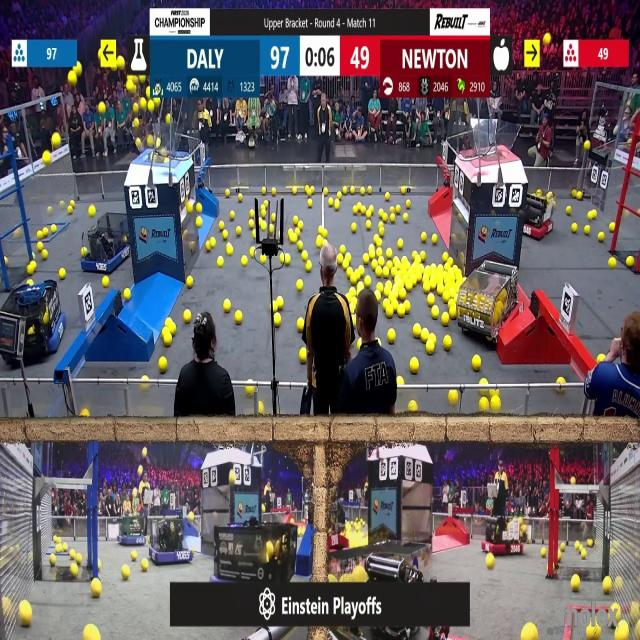ball_airborne: (53, 133, 62, 149), (68, 72, 77, 85), (230, 469, 237, 484), (43, 150, 51, 163), (127, 80, 135, 92), (116, 58, 123, 70), (543, 33, 550, 45), (100, 102, 106, 114), (148, 100, 154, 112), (165, 114, 172, 124), (148, 136, 153, 148), (586, 141, 592, 151), (132, 488, 138, 498), (136, 101, 141, 113), (133, 104, 140, 112), (134, 118, 140, 127), (140, 99, 146, 108), (155, 138, 160, 148), (111, 62, 116, 72), (140, 76, 146, 83), (146, 88, 150, 98), (136, 138, 140, 147), (139, 465, 143, 474), (140, 483, 145, 490)
ball_ground: (20, 604, 32, 628), (92, 580, 102, 598), (570, 577, 580, 593), (449, 390, 459, 406), (480, 396, 490, 411), (411, 357, 420, 373), (471, 355, 480, 370), (160, 356, 168, 372), (603, 578, 611, 594), (486, 554, 494, 569), (426, 340, 435, 353), (274, 313, 282, 327), (296, 318, 304, 332), (299, 348, 306, 364), (236, 311, 244, 325), (414, 324, 422, 338), (388, 331, 396, 345), (70, 564, 78, 577), (183, 310, 190, 324), (444, 312, 451, 326), (121, 565, 128, 579), (344, 253, 352, 265), (223, 300, 230, 313), (410, 400, 418, 411), (627, 256, 635, 267), (186, 276, 193, 288), (431, 308, 438, 320), (608, 256, 615, 268), (257, 403, 263, 417), (277, 296, 284, 308), (376, 248, 384, 258), (376, 268, 384, 278), (384, 287, 392, 297), (368, 245, 374, 258), (365, 206, 372, 217), (316, 237, 323, 248), (142, 560, 148, 572), (306, 262, 312, 273), (296, 280, 302, 291), (226, 244, 232, 255), (217, 256, 223, 267), (90, 206, 96, 217), (49, 555, 55, 566), (428, 293, 434, 304), (389, 214, 396, 223), (396, 377, 403, 386), (60, 270, 66, 280), (598, 233, 604, 243), (103, 277, 109, 287), (338, 254, 344, 264), (585, 224, 591, 234), (363, 253, 369, 263), (383, 268, 389, 278), (431, 235, 437, 245), (387, 308, 393, 318), (81, 410, 88, 418), (377, 282, 384, 290), (292, 186, 297, 197), (386, 248, 392, 257), (296, 241, 302, 250), (571, 223, 577, 232), (242, 256, 248, 265), (132, 552, 138, 561), (336, 202, 342, 211), (364, 219, 370, 228), (270, 213, 276, 222), (397, 240, 403, 249), (609, 222, 614, 232), (444, 252, 449, 262), (380, 223, 385, 233), (237, 225, 242, 235), (558, 378, 565, 385), (598, 354, 604, 362), (566, 207, 572, 215), (482, 378, 488, 386), (384, 280, 392, 286), (249, 248, 254, 257), (353, 206, 358, 215), (377, 238, 382, 247), (42, 250, 47, 259), (352, 222, 356, 232), (249, 210, 254, 218), (222, 232, 227, 240), (280, 253, 284, 263), (576, 190, 581, 198), (560, 542, 565, 550), (403, 213, 407, 222), (358, 340, 362, 349), (98, 560, 102, 569), (385, 192, 390, 199), (224, 189, 229, 196), (308, 200, 312, 208), (338, 192, 343, 198), (328, 200, 332, 207), (597, 354, 601, 361), (582, 553, 586, 560), (230, 212, 234, 218), (220, 221, 223, 229), (252, 232, 256, 238)
goal: (464, 121, 520, 160)
robot_blue: (210, 520, 302, 613), (83, 216, 130, 276), (149, 517, 193, 564), (119, 516, 148, 544)
robot_red: (458, 258, 526, 345), (3, 284, 63, 358), (520, 189, 554, 240), (490, 516, 530, 556)
